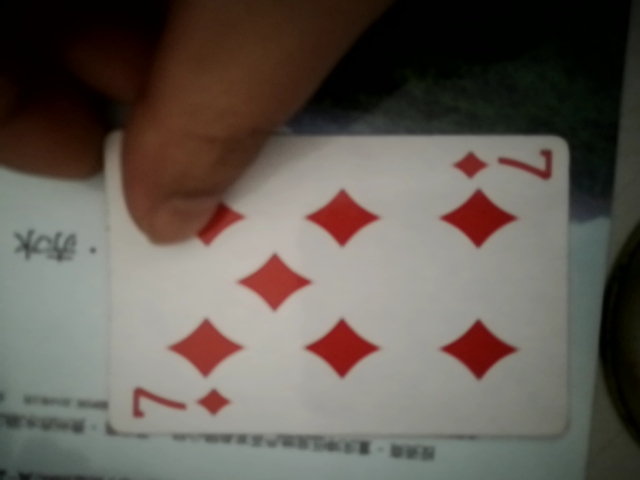fk 7: (90, 128, 578, 453)
